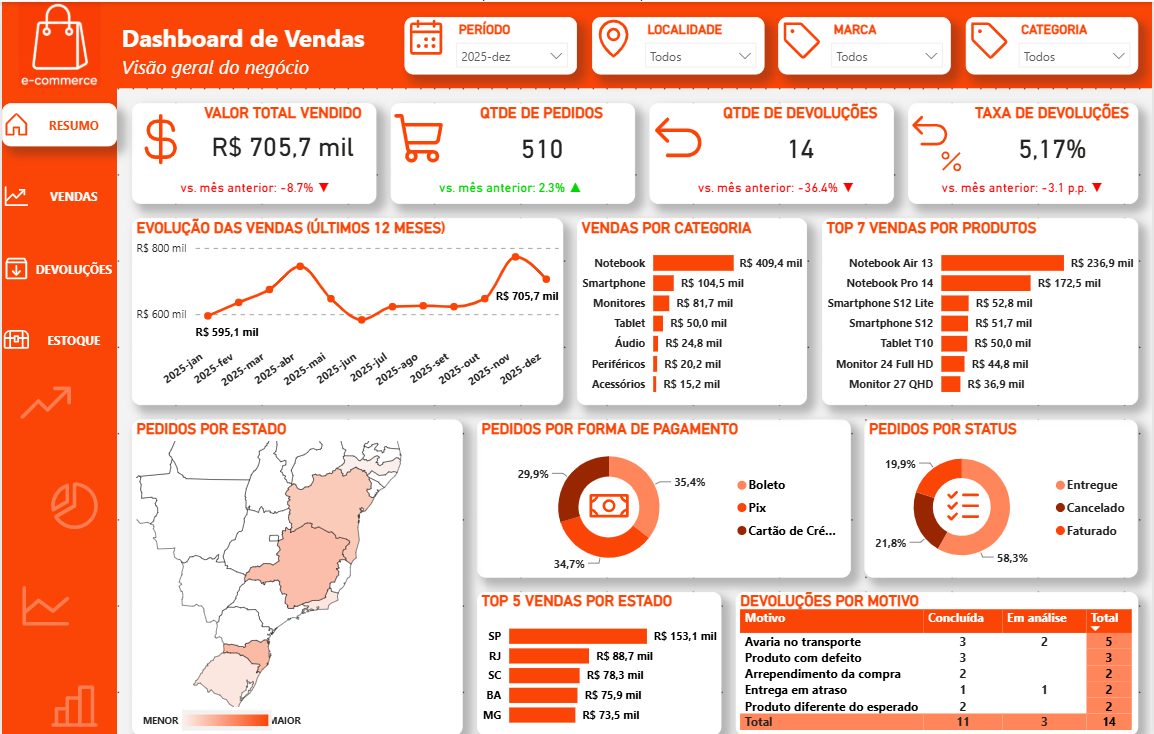

The dashboard page shown, as its layout file describes it:
{"tool":"powerbi","page":{"name":"Página 1","canvas":[1280,820],"ordinal":0},"visuals":[{"type":"shape","box":[0,0,128,816],"z":0},{"type":"shape","box":[448,16,192,64],"z":0,"group":"g1"},{"type":"shape","box":[656,16,192,64],"z":0,"group":"g2"},{"type":"shape","box":[864,16,192,64],"z":0,"group":"g3"},{"type":"shape","box":[1072,16,192,64],"z":0,"group":"g4"},{"type":"shape","box":[0,112,128,48],"z":0,"group":"g17"},{"type":"shape","box":[144,112,272,112],"z":0,"group":"g5"},{"type":"shape","box":[720,112,272,112],"z":0,"group":"g7"},{"type":"shape","box":[1008,112,256,112],"z":0,"group":"g8"},{"type":"shape","box":[144,240,480,208],"z":0,"group":"g11"},{"type":"shape","box":[640,240,256,208],"z":0,"group":"g12"},{"type":"shape","box":[912,240,352,208],"z":0,"group":"g13"},{"type":"shape","box":[0,0,1280,96],"z":1000},{"type":"slicer","title":"Período","fields":{"Values":["dCalendario.ano_mes_nome"]},"box":[496,16,144,64],"z":1000,"group":"g1"},{"type":"slicer","fields":{"Values":["dLocal.estado","dLocal.cidade"]},"box":[704,16,144,64],"z":1000,"group":"g2"},{"type":"slicer","fields":{"Values":["dProduto.marca"]},"box":[912,16,144,64],"z":1000,"group":"g3"},{"type":"image","box":[1072,16,48,48],"z":1000,"group":"g4"},{"type":"image","box":[144,112,64,80],"z":1000,"group":"g5"},{"type":"shape","box":[432,112,272,112],"z":1000,"group":"g6"},{"type":"card","title":"QTDE DE DEVOLUÇÕES","fields":{"Values":["_dax.qtd_devolucoes"]},"box":[784,112,208,80],"z":1000,"group":"g7"},{"type":"card","title":"TAXA DE DEVOLUÇÕES","fields":{"Values":["_dax.per_devolucoes"]},"box":[1072,112,192,80],"z":1000,"group":"g8"},{"type":"shape","box":[528,656,272,160],"z":1000,"group":"g15"},{"type":"shape","box":[816,656,448,160],"z":1000,"group":"g16"},{"type":"multiRowCard","fields":{"Values":["_dax.kpi_variacao_qtd_devolucoes"]},"box":[768,192,224,32],"z":1250,"group":"g7"},{"type":"image","box":[0,112,32,48],"z":1500,"group":"g17"},{"type":"image","box":[720,112,64,80],"z":1500,"group":"g7"},{"type":"image","box":[1008,112,48,64],"z":1500,"group":"g8"},{"type":"image","box":[0,192,32,48],"z":1500,"group":"g18"},{"type":"multiRowCard","fields":{"Values":["_dax.per_var_tot_valor_total"]},"box":[192,192,224,32],"z":1500,"group":"g5"},{"type":"image","box":[0,272,32,48],"z":1500,"group":"g19"},{"type":"image","box":[0,352,32,48],"z":1500,"group":"g20"},{"type":"multiRowCard","fields":{"Values":["_dax.kpi_var_per_devolucoes"]},"box":[1040,192,224,32],"z":1750,"group":"g8"},{"type":"image","box":[448,16,48,48],"z":2000,"group":"g1"},{"type":"image","box":[656,16,48,48],"z":2000,"group":"g2"},{"type":"image","box":[864,16,48,48],"z":2000,"group":"g3"},{"type":"slicer","fields":{"Values":["dProduto.categoria"]},"box":[1120,16,144,64],"z":2000,"group":"g4"},{"type":"card","title":"VALOR TOTAL VENDIDO","fields":{"Values":["_dax.tot_valor_total"]},"box":[208,112,208,80],"z":2000,"group":"g5"},{"type":"card","title":"QTDE DE PEDIDOS","fields":{"Values":["_dax.tot_quantidade"]},"box":[496,112,208,80],"z":2000,"group":"g6"},{"type":"image","box":[1040,160,32,32],"z":2000,"group":"g8"},{"type":"lineChart","title":"EVOLUÇÃO DAS VENDAS (ÚLTIMOS 12 MESES)","fields":{"Category":["dCalendario.ano_mes_nome"],"Y":["_dax.tot_valor"]},"box":[144,240,480,208],"z":2000,"group":"g11"},{"type":"clusteredBarChart","title":"VENDAS POR CATEGORIA","fields":{"Y":["_dax.tot_valor_total"],"Category":["dProduto.categoria"]},"box":[640,240,256,208],"z":2000,"group":"g12"},{"type":"image","box":[16,416,64,64],"z":2000},{"type":"multiRowCard","fields":{"Values":["_dax.kpi_variacao_qtd_pedidos"]},"box":[480,192,224,32],"z":2500,"group":"g6"},{"type":"image","box":[0,0,128,96],"z":3000},{"type":"actionButton","box":[32,112,96,48],"z":3000,"group":"g17"},{"type":"image","box":[432,112,64,80],"z":3000,"group":"g6"},{"type":"actionButton","box":[32,192,96,48],"z":3000,"group":"g18"},{"type":"clusteredBarChart","title":"TOP 7 VENDAS POR PRODUTOS","fields":{"Category":["dProduto.produto"],"Y":["_dax.tot_valor_total"]},"box":[912,240,352,208],"z":3000,"group":"g13"},{"type":"actionButton","box":[32,272,96,48],"z":3000,"group":"g19"},{"type":"actionButton","box":[32,352,96,48],"z":3000,"group":"g20"},{"type":"textbox","box":[128,16,304,80],"z":4000},{"type":"shape","box":[528,464,416,176],"z":4500,"group":"g9"},{"type":"group","id":"g1","title":"Grupo 1","box":[448,16,192,64],"z":5000},{"type":"shape","box":[144,464,368,352],"z":5000,"group":"g14"},{"type":"donutChart","title":"PEDIDOS POR FORMA DE PAGAMENTO","fields":{"Category":["fVendas.forma_pagamento"],"Y":["_dax.qtd_pedidos"]},"box":[528,464,416,176],"z":5000,"group":"g9"},{"type":"shapeMap","title":"PEDIDOS POR ESTADO","fields":{"Category":["dLocal.estado_nome"],"Value":["_dax.qtd_pedidos"]},"box":[144,464,368,352],"z":5500,"group":"g14"},{"type":"image","box":[651.3,528,46.2,64],"z":5500,"group":"g9"},{"type":"group","id":"g2","title":"Grupo 2","box":[656,16,192,64],"z":6000},{"type":"pivotTable","title":"DEVOLUÇÕES POR MOTIVO","fields":{"Rows":["fDevolucoes.motivo_devolucao"],"Values":["_dax.qtd_devolucoes"],"Columns":["fDevolucoes.status_devolucao"]},"box":[816,656,448,160],"z":6000,"group":"g16"},{"type":"textbox","box":[150.3,783.9,234.2,29.3],"z":6000,"group":"g14"},{"type":"image","box":[199.4,783.9,100.4,29.3],"z":6500,"group":"g14"},{"type":"group","id":"g3","title":"Grupo 3","box":[864,16,192,64],"z":7000},{"type":"clusteredBarChart","title":"TOP 5 VENDAS POR ESTADO","fields":{"Category":["dLocal.estado"],"Y":["_dax.tot_valor_total"]},"box":[528,656,272,160],"z":7000,"group":"g15"},{"type":"group","id":"g4","title":"Grupo 4","box":[1072,16,192,64],"z":8000},{"type":"shape","box":[960,464,304,176],"z":8500,"group":"g10"},{"type":"group","id":"g5","title":"Grupo 5","box":[144,112,272,112],"z":9000},{"type":"donutChart","title":"PEDIDOS POR STATUS","fields":{"Category":["fVendas.status_pedido"],"Y":["_dax.qtd_pedidos"]},"box":[960,464,304,176],"z":9000,"group":"g10"},{"type":"image","box":[1046,528.7,47.3,64],"z":9500,"group":"g10"},{"type":"group","id":"g6","title":"Grupo 6","box":[432,112,272,112],"z":10000},{"type":"group","id":"g7","title":"Grupo 7","box":[720,112,272,112],"z":11000},{"type":"group","id":"g8","title":"Grupo 16","box":[1008,112,256,112],"z":12000},{"type":"group","id":"g9","title":"Grupo 8","box":[528,464,416,176],"z":13000},{"type":"group","id":"g10","title":"Grupo 9","box":[960,464,304,176],"z":14000},{"type":"group","id":"g11","title":"Grupo 10","box":[144,240,480,208],"z":15000},{"type":"group","id":"g12","title":"Grupo 11","box":[640,240,256,208],"z":16000},{"type":"group","id":"g13","title":"Grupo 12","box":[912,240,352,208],"z":17000},{"type":"group","id":"g14","title":"Grupo 13","box":[144,464,368,352],"z":18000},{"type":"group","id":"g15","title":"Grupo 14","box":[528,656,272,160],"z":19000},{"type":"group","id":"g16","title":"Grupo 15","box":[816,656,448,160],"z":20000},{"type":"image","box":[48,528,64,64],"z":21000},{"type":"image","box":[16,640,64,64],"z":22000},{"type":"image","box":[48,752,64,64],"z":23000},{"type":"group","id":"g17","title":"Grupo 17","box":[0,112,128,48],"z":24000},{"type":"group","id":"g18","title":"Grupo 17","box":[0,192,128,48],"z":25000},{"type":"group","id":"g19","title":"Grupo 17","box":[0,272,128,48],"z":26000},{"type":"group","id":"g20","title":"Grupo 17","box":[0,352,128,48],"z":27000}]}

Visuals, with their boxes on the page's 1280x820 design canvas (x1, y1, x2, y2). These are canvas units, not pixel positions in the 1154x734 screenshot, which may show the page scaled, cropped or inside an application window:
shape: box(0, 0, 128, 816)
shape: box(448, 16, 640, 80)
shape: box(656, 16, 848, 80)
shape: box(864, 16, 1056, 80)
shape: box(1072, 16, 1264, 80)
shape: box(0, 112, 128, 160)
shape: box(144, 112, 416, 224)
shape: box(720, 112, 992, 224)
shape: box(1008, 112, 1264, 224)
shape: box(144, 240, 624, 448)
shape: box(640, 240, 896, 448)
shape: box(912, 240, 1264, 448)
shape: box(0, 0, 1280, 96)
"Período" slicer: box(496, 16, 640, 80)
slicer - dLocal.estado x dLocal.cidade: box(704, 16, 848, 80)
slicer - dProduto.marca: box(912, 16, 1056, 80)
image: box(1072, 16, 1120, 64)
image: box(144, 112, 208, 192)
shape: box(432, 112, 704, 224)
"QTDE DE DEVOLUÇÕES" card: box(784, 112, 992, 192)
"TAXA DE DEVOLUÇÕES" card: box(1072, 112, 1264, 192)
shape: box(528, 656, 800, 816)
shape: box(816, 656, 1264, 816)
multiRowCard - _dax.kpi_variacao_qtd_devolucoes: box(768, 192, 992, 224)
image: box(0, 112, 32, 160)
image: box(720, 112, 784, 192)
image: box(1008, 112, 1056, 176)
image: box(0, 192, 32, 240)
multiRowCard - _dax.per_var_tot_valor_total: box(192, 192, 416, 224)
image: box(0, 272, 32, 320)
image: box(0, 352, 32, 400)
multiRowCard - _dax.kpi_var_per_devolucoes: box(1040, 192, 1264, 224)
image: box(448, 16, 496, 64)
image: box(656, 16, 704, 64)
image: box(864, 16, 912, 64)
slicer - dProduto.categoria: box(1120, 16, 1264, 80)
"VALOR TOTAL VENDIDO" card: box(208, 112, 416, 192)
"QTDE DE PEDIDOS" card: box(496, 112, 704, 192)
image: box(1040, 160, 1072, 192)
"EVOLUÇÃO DAS VENDAS (ÚLTIMOS 12 MESES)" lineChart: box(144, 240, 624, 448)
"VENDAS POR CATEGORIA" clusteredBarChart: box(640, 240, 896, 448)
image: box(16, 416, 80, 480)
multiRowCard - _dax.kpi_variacao_qtd_pedidos: box(480, 192, 704, 224)
image: box(0, 0, 128, 96)
actionButton: box(32, 112, 128, 160)
image: box(432, 112, 496, 192)
actionButton: box(32, 192, 128, 240)
"TOP 7 VENDAS POR PRODUTOS" clusteredBarChart: box(912, 240, 1264, 448)
actionButton: box(32, 272, 128, 320)
actionButton: box(32, 352, 128, 400)
textbox: box(128, 16, 432, 96)
shape: box(528, 464, 944, 640)
"Grupo 1" group: box(448, 16, 640, 80)
shape: box(144, 464, 512, 816)
"PEDIDOS POR FORMA DE PAGAMENTO" donutChart: box(528, 464, 944, 640)
"PEDIDOS POR ESTADO" shapeMap: box(144, 464, 512, 816)
image: box(651, 528, 698, 592)
"Grupo 2" group: box(656, 16, 848, 80)
"DEVOLUÇÕES POR MOTIVO" pivotTable: box(816, 656, 1264, 816)
textbox: box(150, 784, 384, 813)
image: box(199, 784, 300, 813)
"Grupo 3" group: box(864, 16, 1056, 80)
"TOP 5 VENDAS POR ESTADO" clusteredBarChart: box(528, 656, 800, 816)
"Grupo 4" group: box(1072, 16, 1264, 80)
shape: box(960, 464, 1264, 640)
"Grupo 5" group: box(144, 112, 416, 224)
"PEDIDOS POR STATUS" donutChart: box(960, 464, 1264, 640)
image: box(1046, 529, 1093, 593)
"Grupo 6" group: box(432, 112, 704, 224)
"Grupo 7" group: box(720, 112, 992, 224)
"Grupo 16" group: box(1008, 112, 1264, 224)
"Grupo 8" group: box(528, 464, 944, 640)
"Grupo 9" group: box(960, 464, 1264, 640)
"Grupo 10" group: box(144, 240, 624, 448)
"Grupo 11" group: box(640, 240, 896, 448)
"Grupo 12" group: box(912, 240, 1264, 448)
"Grupo 13" group: box(144, 464, 512, 816)
"Grupo 14" group: box(528, 656, 800, 816)
"Grupo 15" group: box(816, 656, 1264, 816)
image: box(48, 528, 112, 592)
image: box(16, 640, 80, 704)
image: box(48, 752, 112, 816)
"Grupo 17" group: box(0, 112, 128, 160)
"Grupo 17" group: box(0, 192, 128, 240)
"Grupo 17" group: box(0, 272, 128, 320)
"Grupo 17" group: box(0, 352, 128, 400)
